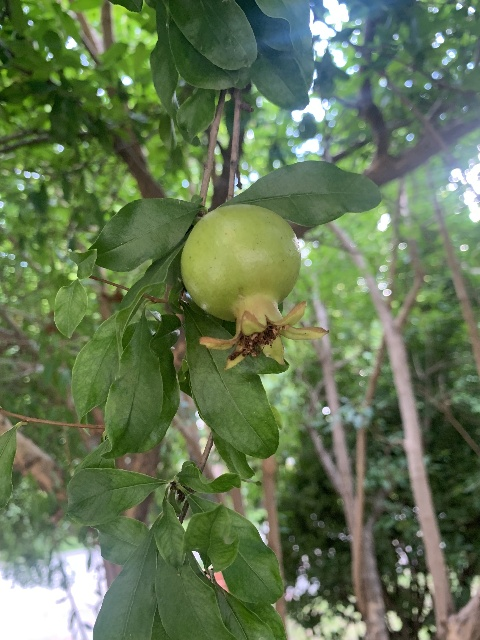mid-growth: (180, 203, 330, 369)
